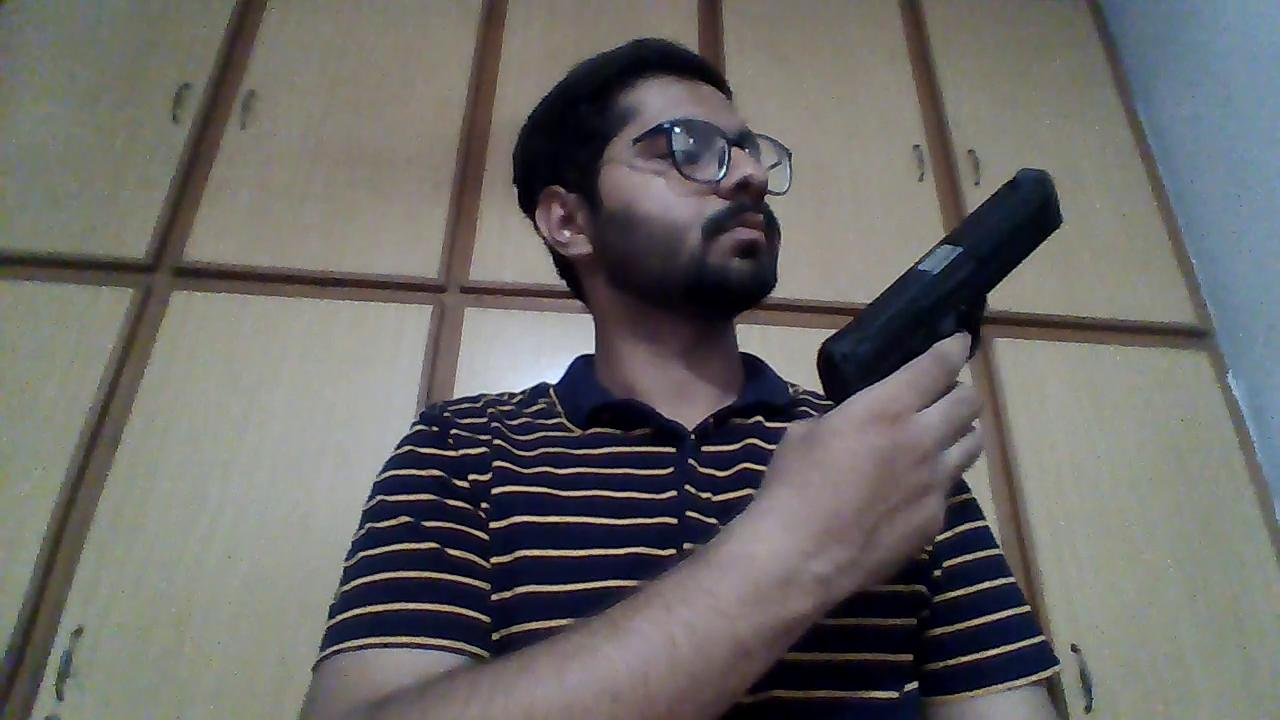criminal: (299, 34, 1066, 720)
weapon: (814, 161, 1068, 416)
